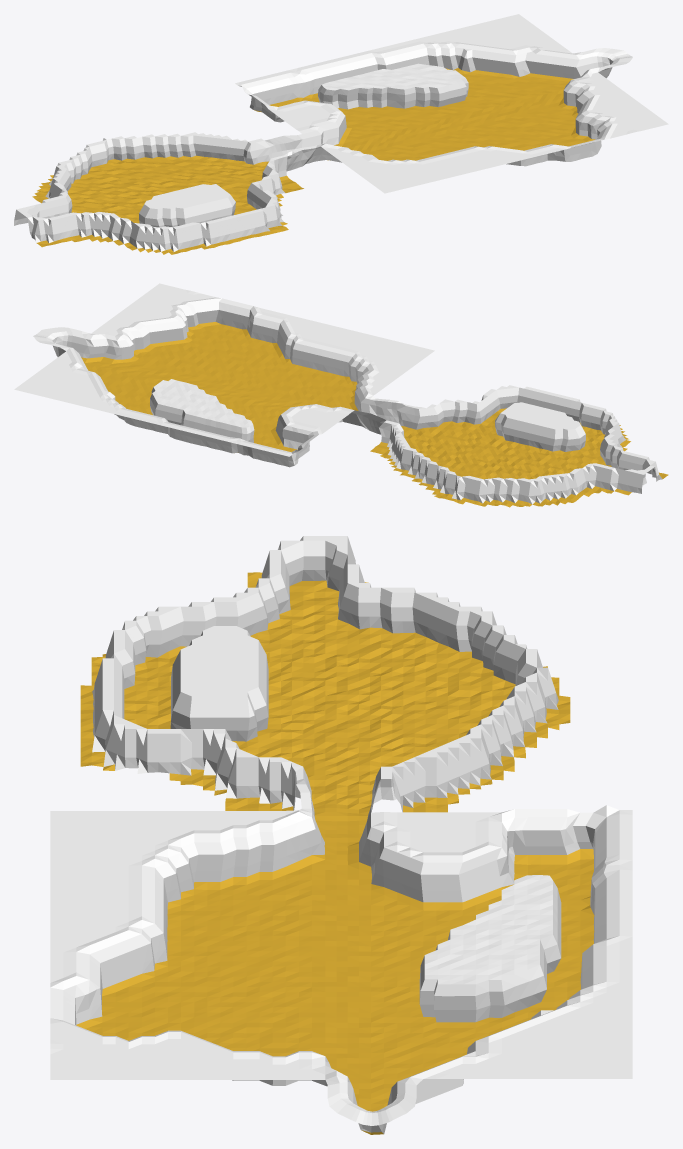
File: DesertTexture.fbx
3 renders of one model, top to bottom at view 1: azimuth 30°, elevation 25°; view 2: azimuth 150°, elevation 25°; view 3: azimuth 270°, elevation 25°, orthographic. The views are drawn at different scales.
Visible parts, largest first — view 1: pPlane1; view 2: pPlane1; view 3: pPlane1.
Boxes of the visible parts, box(x1,y1,x2,y2) form: pPlane1: box(14, 14, 668, 254); pPlane1: box(14, 283, 668, 507); pPlane1: box(50, 536, 632, 1134).
Bounding box in the file's own units: 24.45 × 0.8976 × 10.25.
1 material, 1 textured.
